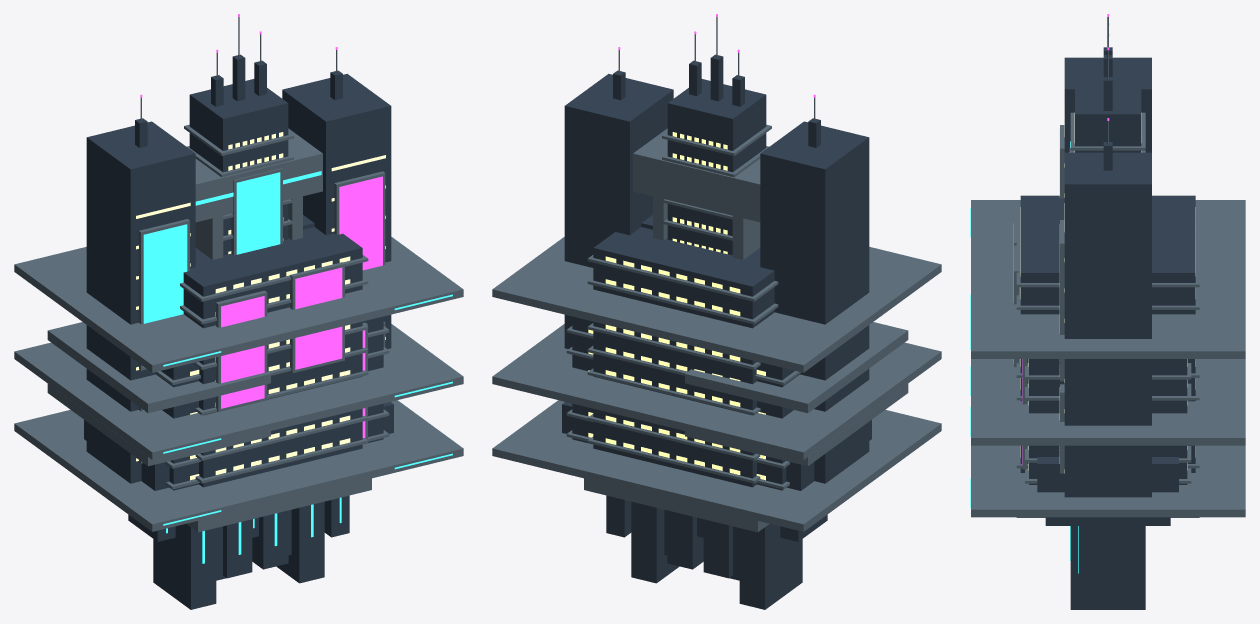
Rendered from booze-city-kit.glb.
The picture shows the model from 3 angles, left to right: view 1: azimuth 30°, elevation 25°; view 2: azimuth 150°, elevation 25°; view 3: azimuth 270°, elevation 25°; orthographic projection.
Parts seen in each view (by area): view 1: b06-track-hub-city-trim, b05-bridge-tower-city-graphite, b06-track-hub-city-graphite, b03-portrait-tower-city-graphite, b01-commercial-island-city-trim, b01-commercial-island-city-graphite, b06-track-hub-city-magenta, b05-bridge-tower-city-trim, b03-portrait-tower-city-trim, b05-bridge-tower-city-cyan, b03-portrait-tower-city-cyan, b05-bridge-tower-city-magenta (+3 smaller); view 2: b06-track-hub-city-trim, b05-bridge-tower-city-graphite, b06-track-hub-city-graphite, b03-portrait-tower-city-graphite, b01-commercial-island-city-trim, b01-commercial-island-city-graphite, b05-bridge-tower-city-trim, b03-portrait-tower-city-trim, b06-track-hub-city-window, b14-far-cluster-city-trim, b03-portrait-tower-city-window; view 3: b06-track-hub-city-trim, b05-bridge-tower-city-graphite, b06-track-hub-city-graphite, b01-commercial-island-city-graphite, b03-portrait-tower-city-graphite, b01-commercial-island-city-trim, b05-bridge-tower-city-trim, b03-portrait-tower-city-trim.
Part boxes in pixels (<box>): b06-track-hub-city-trim: <box>14,237,463,531</box>; b05-bridge-tower-city-graphite: <box>86,70,391,483</box>; b06-track-hub-city-graphite: <box>153,227,362,609</box>; b03-portrait-tower-city-graphite: <box>189,54,288,255</box>; b01-commercial-island-city-trim: <box>47,322,389,489</box>; b01-commercial-island-city-graphite: <box>84,316,393,580</box>; b06-track-hub-city-magenta: <box>221,267,342,408</box>; b05-bridge-tower-city-trim: <box>138,50,385,463</box>; b03-portrait-tower-city-trim: <box>184,17,302,259</box>; b05-bridge-tower-city-cyan: <box>143,171,321,410</box>; b03-portrait-tower-city-cyan: <box>236,172,280,254</box>; b05-bridge-tower-city-magenta: <box>140,47,382,270</box>; b06-track-hub-city-trim: <box>492,237,941,531</box>; b05-bridge-tower-city-graphite: <box>564,70,869,483</box>; b06-track-hub-city-graphite: <box>593,227,802,609</box>; b03-portrait-tower-city-graphite: <box>667,54,766,255</box>; b01-commercial-island-city-trim: <box>566,322,908,489</box>; b01-commercial-island-city-graphite: <box>562,316,871,580</box>; b05-bridge-tower-city-trim: <box>618,50,815,222</box>; b03-portrait-tower-city-trim: <box>653,17,771,259</box>; b06-track-hub-city-window: <box>605,256,740,474</box>; b14-far-cluster-city-trim: <box>584,478,769,532</box>; b03-portrait-tower-city-window: <box>672,132,727,254</box>; b06-track-hub-city-trim: <box>971,200,1245,517</box>; b05-bridge-tower-city-graphite: <box>1064,47,1151,523</box>; b06-track-hub-city-graphite: <box>1020,195,1195,609</box>; b01-commercial-island-city-graphite: <box>1029,359,1187,589</box>; b03-portrait-tower-city-graphite: <box>1075,55,1141,152</box>; b01-commercial-island-city-trim: <box>1022,359,1191,483</box>; b05-bridge-tower-city-trim: <box>1060,121,1108,473</box>; b03-portrait-tower-city-trim: <box>1069,17,1145,152</box>.
Size of the model in its own units: 86 by 149 by 66.1.
